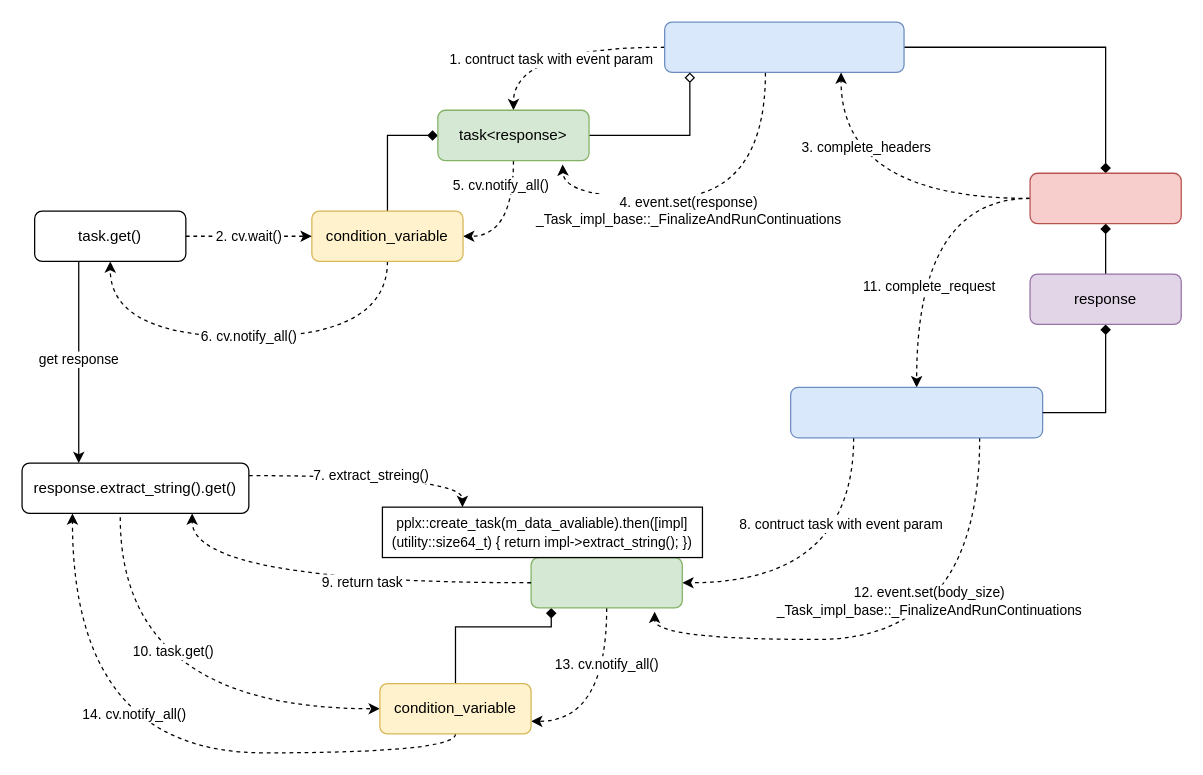
Some shapes in this 1203 by 775 pixel diagram are drawn without their labels. Each missing label, with the centre of its shape:
"request_context" goes at (1105,198).
"task<body_size>" goes at (606,582).
"task_complete_event<body_size>" goes at (916,412).
"task_complete_event<response>" goes at (783,46).
